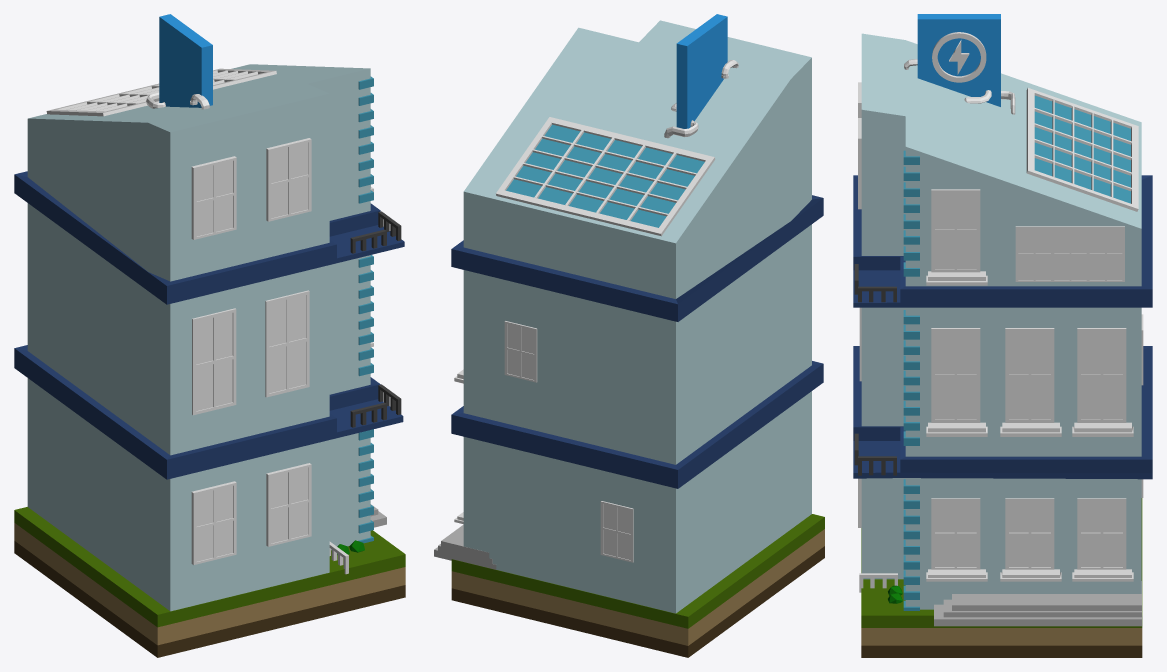
The model's file is Apartment2Preafab.fbx.
The picture shows the model from 3 angles, left to right: view 1: azimuth 30°, elevation 25°; view 2: azimuth 150°, elevation 25°; view 3: azimuth 270°, elevation 25°; orthographic projection. The views are drawn at different scales.
Parts seen in each view (by area): view 1: save apartment.001, apartment ground, window asset.033, window asset.036, Cube.161, window asset.031, window asset.034, window asset.032, window asset.035, Cube.170, Cube.124, Cube.130 (+1 smaller); view 2: save apartment.001, apartment ground, Cube.170, Cube.161, window asset.040, window asset.039, Cube.120; view 3: save apartment.001, apartment ground, Cube.170, Cube.120, Cube.161, window asset.025, window asset.026, window asset.027, window asset.038, window asset.028, window asset.029, window asset.030 (+15 smaller).
Part boxes in pixels (x1,y1,x2,y2): save apartment.001: [14, 64, 404, 611]; apartment ground: [14, 507, 405, 657]; window asset.033: [265, 290, 309, 397]; window asset.036: [192, 308, 236, 415]; Cube.161: [159, 14, 212, 107]; window asset.031: [266, 138, 311, 221]; window asset.034: [266, 463, 311, 546]; window asset.032: [191, 156, 236, 239]; window asset.035: [191, 481, 236, 564]; Cube.170: [46, 68, 276, 116]; Cube.124: [358, 76, 373, 203]; Cube.130: [358, 255, 373, 376]; save apartment.001: [451, 20, 823, 613]; apartment ground: [451, 514, 824, 657]; Cube.170: [496, 117, 715, 236]; Cube.161: [676, 14, 727, 128]; window asset.040: [600, 501, 633, 562]; window asset.039: [504, 321, 537, 382]; Cube.120: [434, 525, 496, 569]; save apartment.001: [853, 33, 1152, 609]; apartment ground: [861, 498, 1142, 657]; Cube.170: [1026, 88, 1138, 211]; Cube.120: [934, 581, 1141, 626]; Cube.161: [917, 14, 1000, 106]; window asset.025: [931, 328, 980, 422]; window asset.026: [1005, 328, 1054, 422]; window asset.027: [1077, 328, 1126, 422]; window asset.038: [931, 189, 980, 272]; window asset.028: [931, 498, 980, 569]; window asset.029: [1005, 498, 1054, 569]; window asset.030: [1077, 498, 1126, 569].
Bounding box in the file's own units: 224 × 458 × 222.
